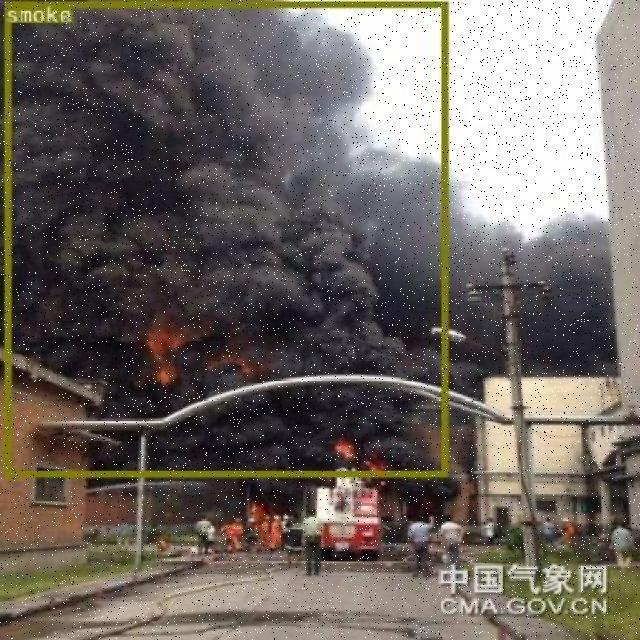Smoke: (3, 0, 445, 475)
